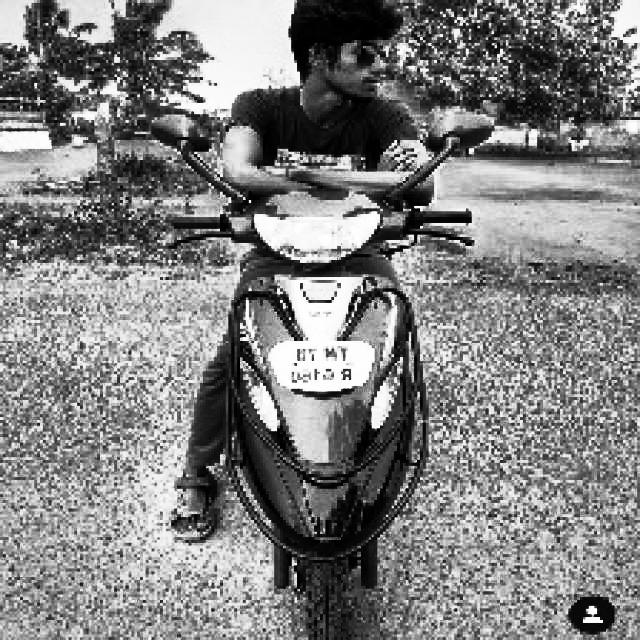Bike: (206, 170, 446, 634)
